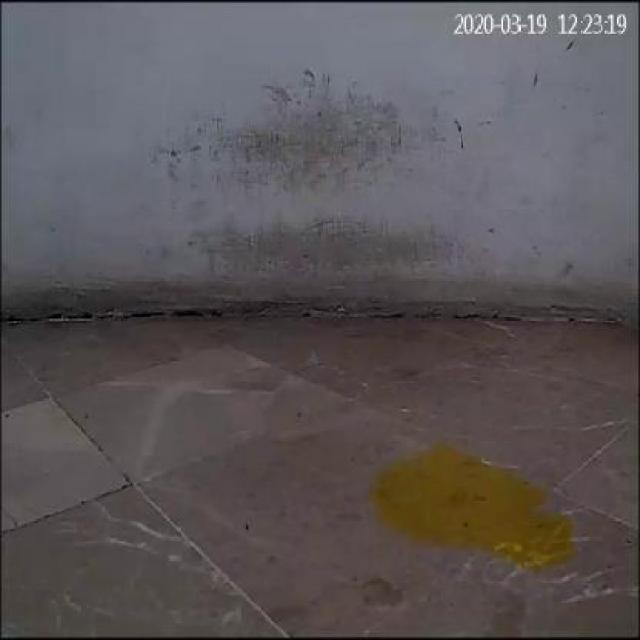spill: (366, 436, 585, 572)
